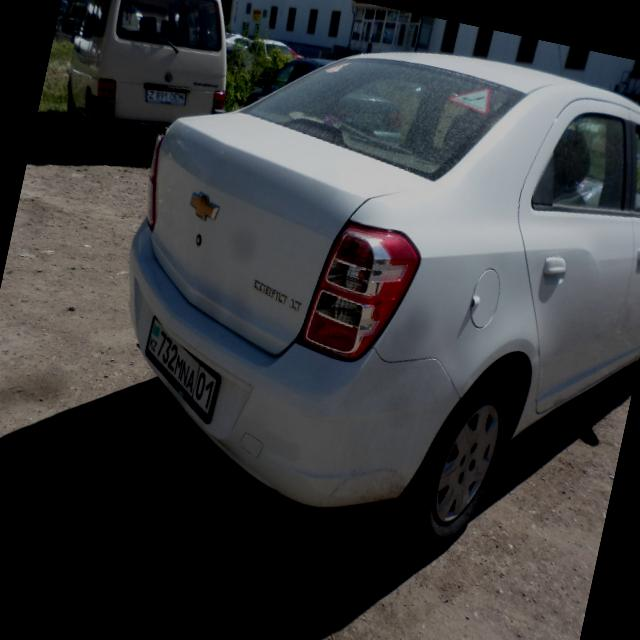Rayure: (321, 446, 418, 519)
